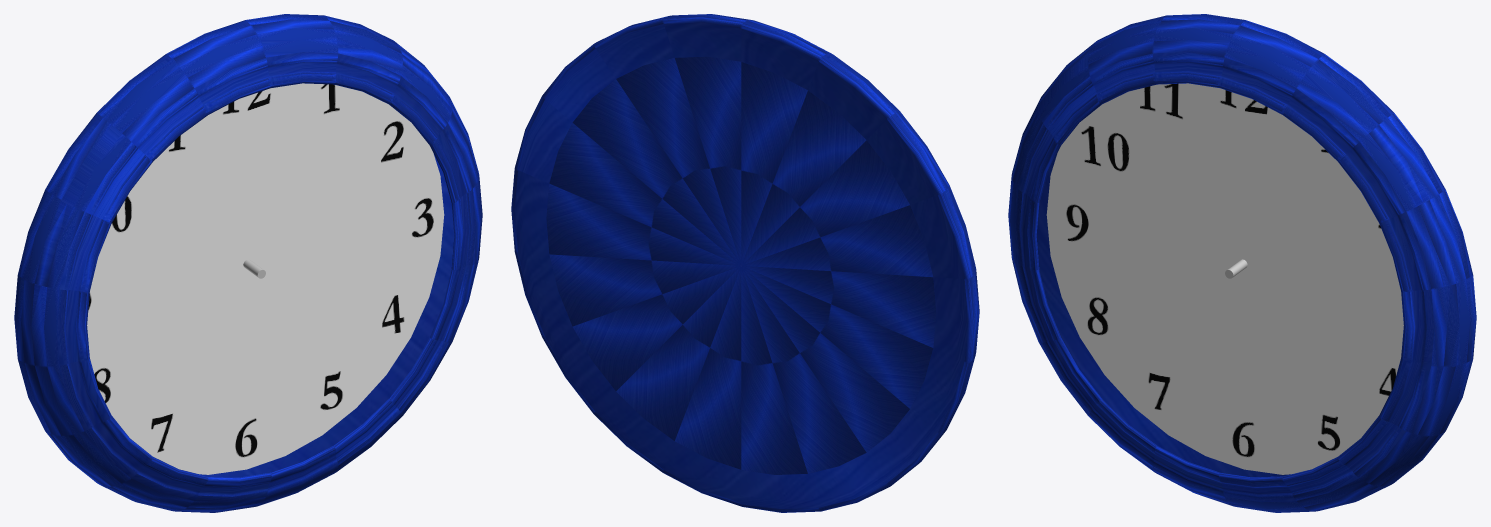
Rendered from Clock1.obj.
The picture shows the model from 3 angles, left to right: view 1: azimuth 30°, elevation 25°; view 2: azimuth 150°, elevation 25°; view 3: azimuth 330°, elevation 25°; orthographic projection.
Parts seen in each view (by area): view 1: polySurface4 polySurface2 Clock_07:Mesh; view 2: polySurface4 polySurface2 Clock_07:Mesh; view 3: polySurface4 polySurface2 Clock_07:Mesh.
Boxes of the visible parts, bbox=[...] form: polySurface4 polySurface2 Clock_07:Mesh: bbox=[14, 14, 482, 512]; polySurface4 polySurface2 Clock_07:Mesh: bbox=[511, 14, 979, 512]; polySurface4 polySurface2 Clock_07:Mesh: bbox=[1008, 14, 1476, 512].
Bounding box in the file's own units: 30.26 × 30.27 × 3.13.
Materials: 3 (2 with a texture image).
